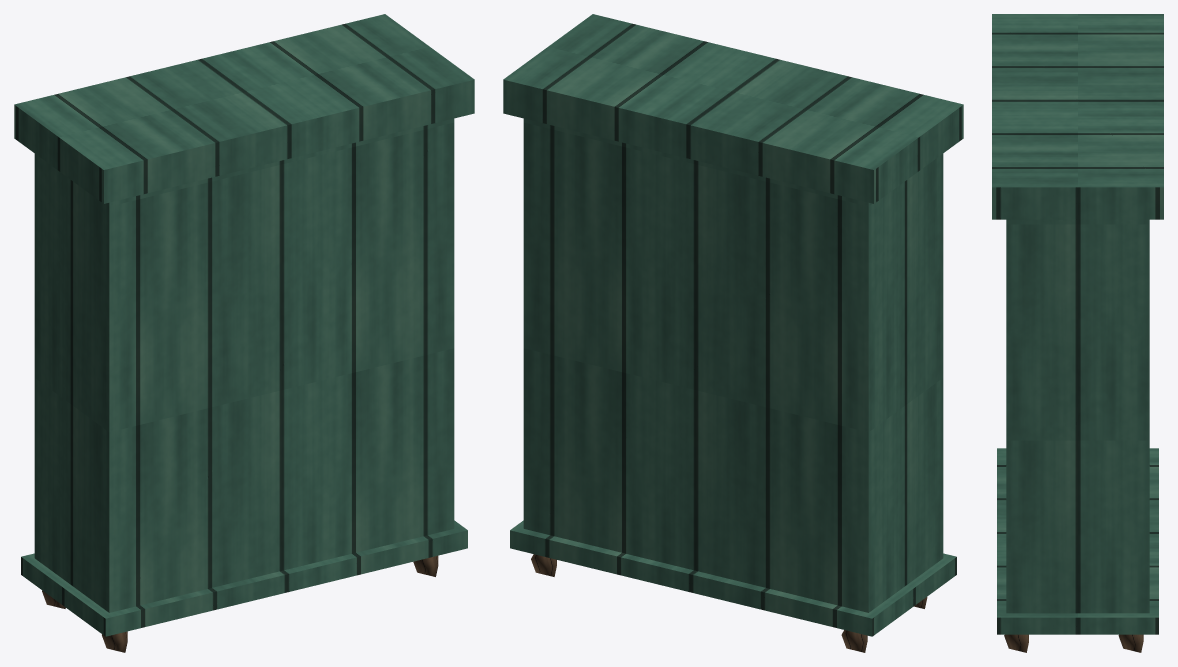
File: Wardrobe_Painted_1_LOD2.gltf
3 views of the same model, side by side, from view 1: azimuth 30°, elevation 25°; view 2: azimuth 150°, elevation 25°; view 3: azimuth 270°, elevation 25° (orthographic). The views are drawn at different scales.
Parts seen in each view (by area): view 1: Wardrobe_Painted_1_LOD2; view 2: Wardrobe_Painted_1_LOD2; view 3: Wardrobe_Painted_1_LOD2.
Boxes of the visible parts, box(x1,y1,x2,y2) form: Wardrobe_Painted_1_LOD2: box(14, 14, 474, 652); Wardrobe_Painted_1_LOD2: box(503, 14, 963, 652); Wardrobe_Painted_1_LOD2: box(992, 14, 1163, 652).
Bounding box in the file's own units: 1.72 × 2.2 × 0.72.
Materials: 2 (2 with a texture image).
